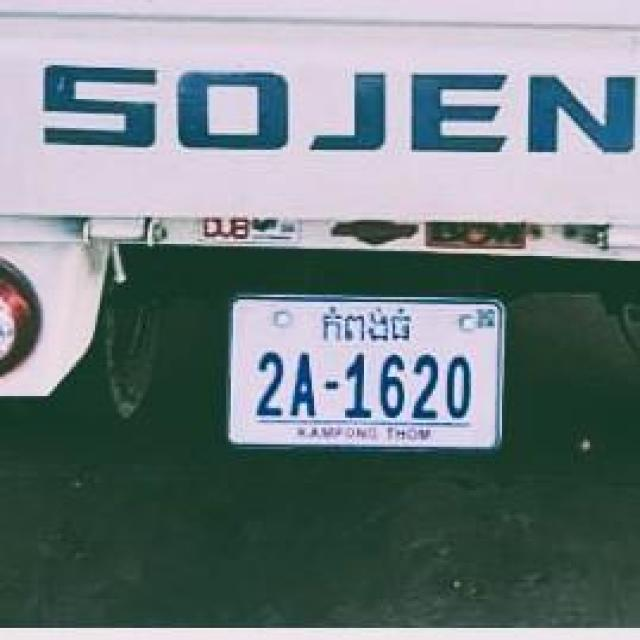Kampong_Thom: (321, 307, 412, 344)
